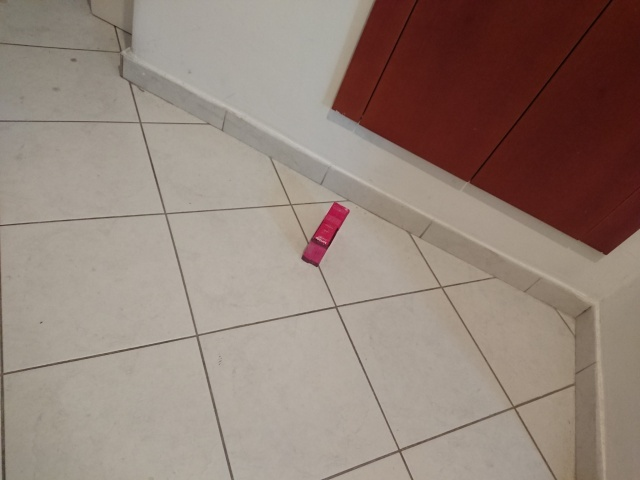Barcaffe Classic Original 225g: (299, 200, 352, 269)
